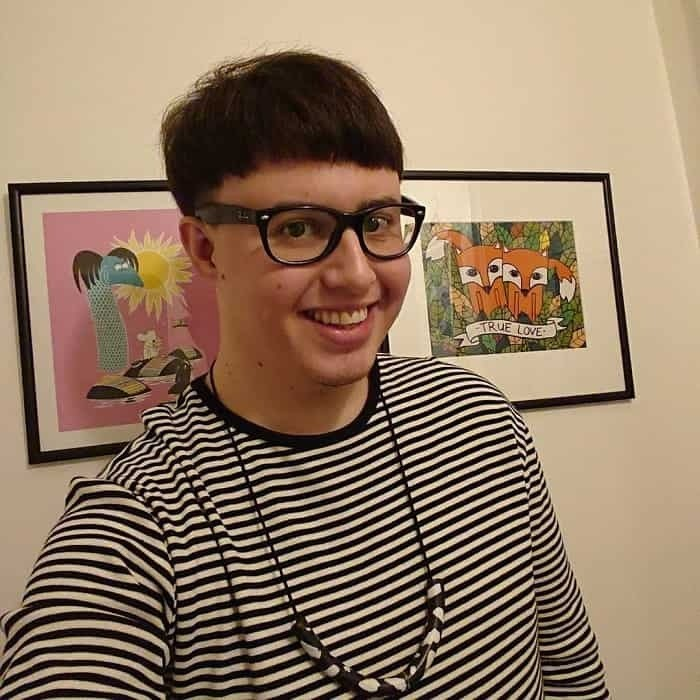face_no_mask: (179, 81, 417, 397)
